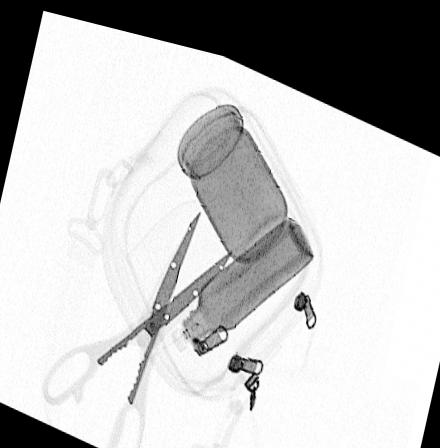Scissors: (38, 197, 232, 448)
